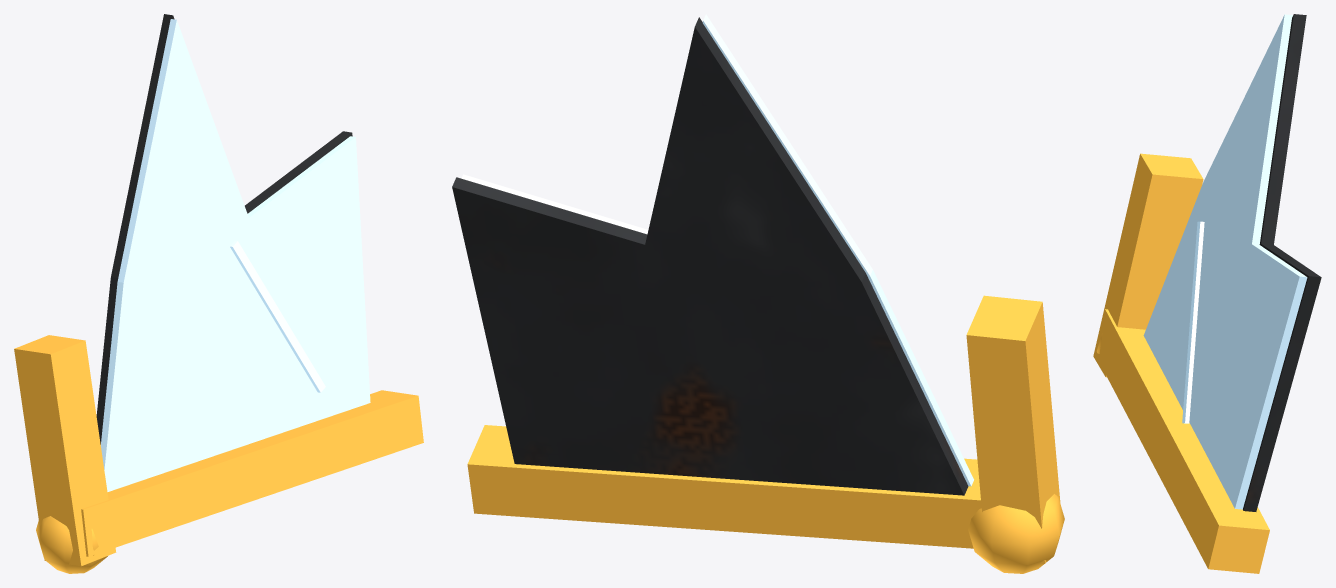
File: mirror.glb
3 renders of one model, left to right at view 1: azimuth 30°, elevation 25°; view 2: azimuth 150°, elevation 25°; view 3: azimuth 270°, elevation 25°, orthographic. The views are drawn at different scales.
Parts seen in each view (by area): view 1: mirror; view 2: mirror; view 3: mirror.
Part boxes in pixels (x1,y1,x2,y2): mirror: (14,14,423,573); mirror: (452,14,1064,573); mirror: (1093,14,1321,573).
Bounding box in the file's own units: 0.2177 × 0.2271 × 0.1016.
Materials: 4 (1 with a texture image).
